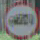Heavy Vehicles: (4, 1, 38, 39)
